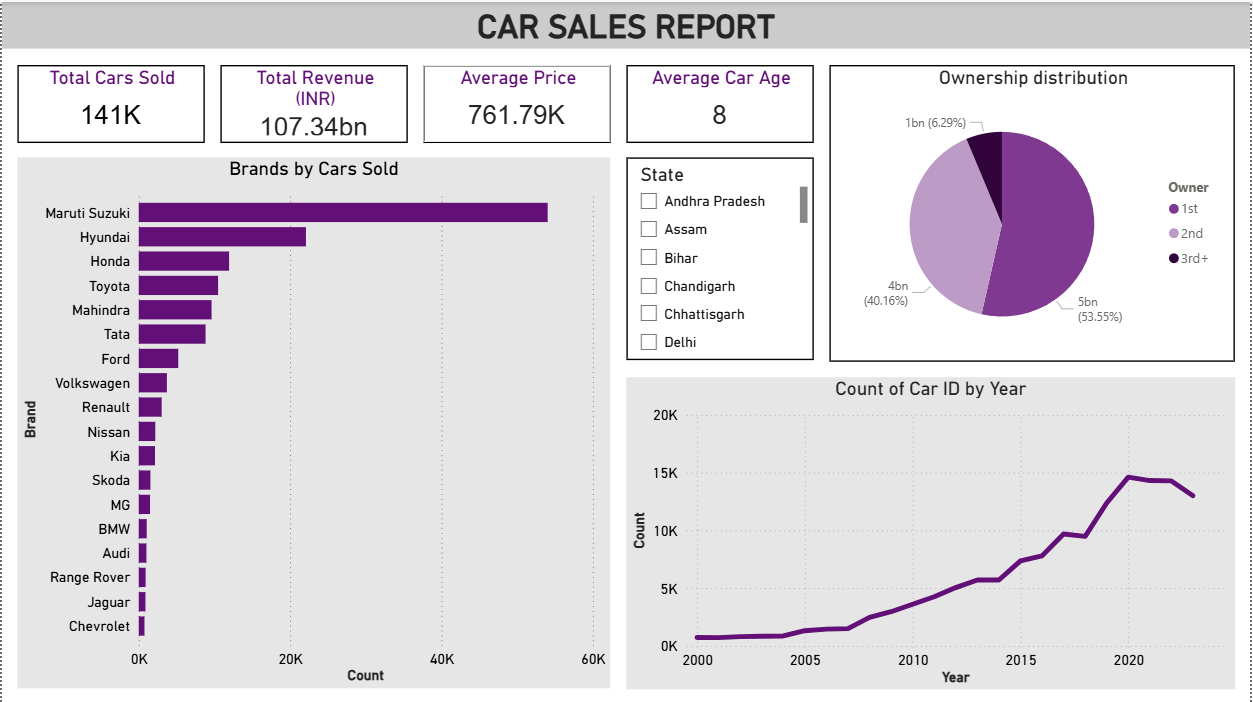

What the dashboard file says about the page in this screenshot:
{"tool":"powerbi","page":{"name":"Page 1","canvas":[1280,720],"ordinal":0},"visuals":[{"type":"card","title":"Total Cars Sold","fields":{"Values":["Car Sell Dataset.Total Cars Sold"]},"box":[16,64,192,80],"z":0},{"type":"card","title":"Total Revenue (INR)","fields":{"Values":["Car Sell Dataset.Total_Revenue"]},"box":[224,64,192,80],"z":1000},{"type":"card","title":"Average Price","fields":{"Values":["Car Sell Dataset.Average Price"]},"box":[432,64,192,80],"z":2000},{"type":"card","title":"Average Car Age","fields":{"Values":["Car Sell Dataset.Average Car Age"]},"box":[640,64,192,80],"z":3000},{"type":"barChart","title":"Brands by Cars Sold","fields":{"Category":["Car Sell Dataset.Brand"],"Y":["Count(Car Sell Dataset.Car ID)"]},"box":[16,160,608,544],"z":4000},{"type":"lineChart","fields":{"Category":["Car Sell Dataset.Year"],"Y":["CountNonNull(Car Sell Dataset.Car ID)"]},"box":[640,384,624,320],"z":5000},{"type":"pieChart","title":"Ownership distribution","fields":{"Category":["Car Sell Dataset.Owner"],"Y":["Sum(Car Sell Dataset.Car ID)"]},"box":[848,64,416,304],"z":6000},{"type":"textbox","box":[0,0,1280,48],"z":7000},{"type":"slicer","fields":{"Values":["Car Sell Dataset.State"]},"box":[640,160,192,208],"z":8000}]}

Visuals, with their boxes in screenshot pixels (x1, y1, x2, y2), scaled from the page's 1280x720 canvas onto the 1253x702 screenshot:
"Total Cars Sold" card: {"left": 16, "top": 62, "right": 204, "bottom": 140}
"Total Revenue (INR)" card: {"left": 219, "top": 62, "right": 407, "bottom": 140}
"Average Price" card: {"left": 423, "top": 62, "right": 611, "bottom": 140}
"Average Car Age" card: {"left": 626, "top": 62, "right": 814, "bottom": 140}
"Brands by Cars Sold" barChart: {"left": 16, "top": 156, "right": 611, "bottom": 686}
lineChart - Car Sell Dataset.Year x CountNonNull(Car Sell Dataset.Car ID): {"left": 626, "top": 374, "right": 1237, "bottom": 686}
"Ownership distribution" pieChart: {"left": 830, "top": 62, "right": 1237, "bottom": 359}
textbox: {"left": 0, "top": 0, "right": 1252, "bottom": 47}
slicer - Car Sell Dataset.State: {"left": 626, "top": 156, "right": 814, "bottom": 359}
